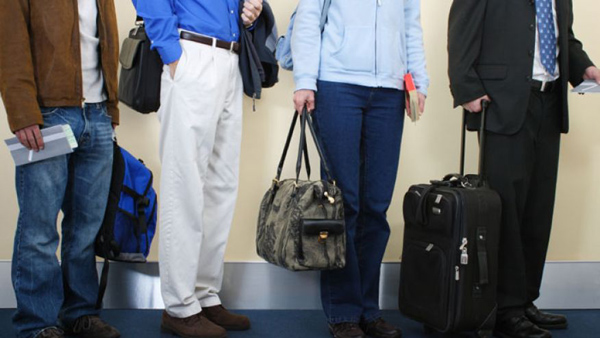backpack: (99, 136, 161, 274)
bag: (252, 100, 350, 275), (108, 16, 172, 117)
luggage: (393, 96, 503, 338)
